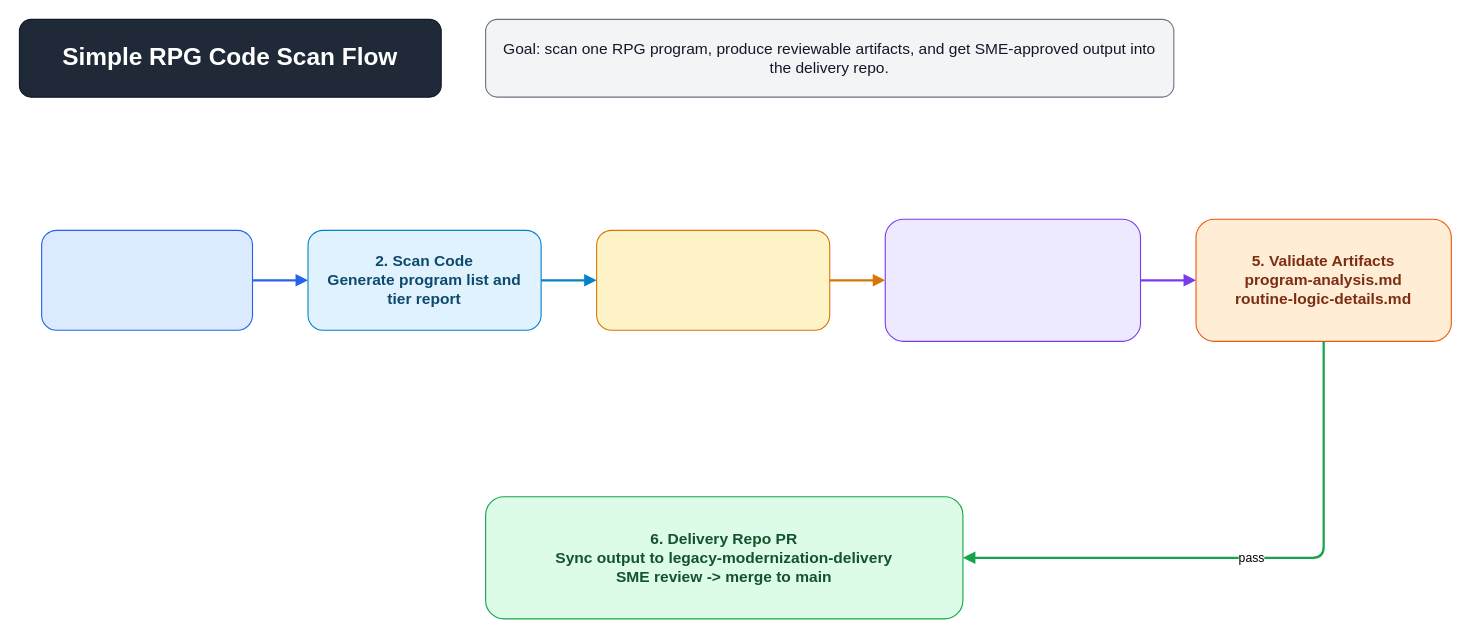
Image size: 1471x638. Some labels were removed from this diagram. Here are the shapes that lost their labels. From the top down, the box of each, then its label:
(41, 229, 253, 330): 1. Source Repo RPG / RPGLE / SQLRPGLE code
(596, 229, 830, 330): 3. Choose Tier normal / complex / 10,000+ large
(884, 218, 1141, 341): 4. Analyze Program Use tier-specific prompt Large code: 5-routine batches
